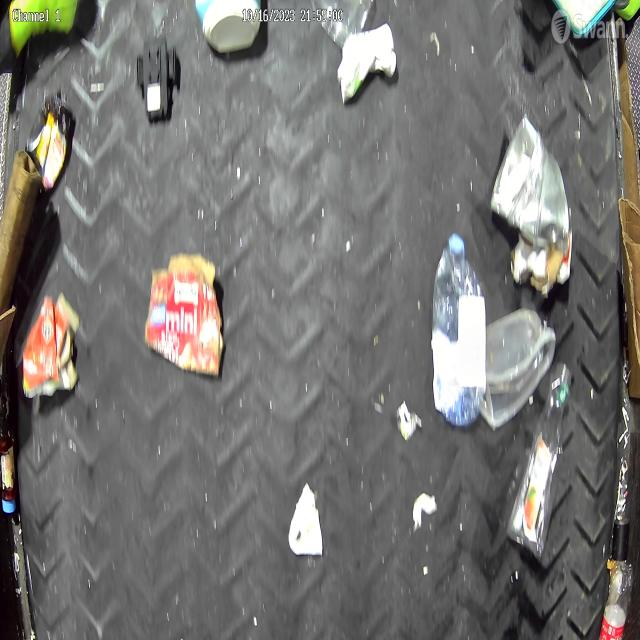can: (490, 115, 568, 251)
milk_jug: (479, 307, 557, 428)
plastic_bottle: (506, 358, 574, 563), (430, 233, 487, 429), (598, 558, 634, 640)
